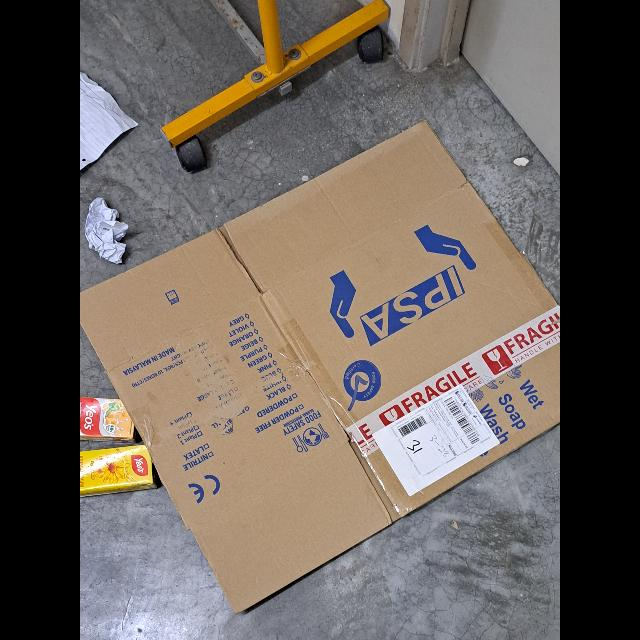caixinha: (80, 444, 154, 498), (80, 396, 134, 440)
papel: (80, 73, 140, 177), (85, 198, 131, 264)
papelão: (80, 120, 560, 612)
